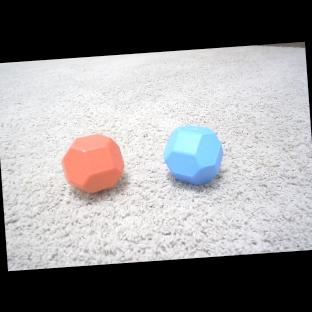V5_BLUE: (161, 120, 226, 187)
V5_RED: (62, 131, 124, 195)
